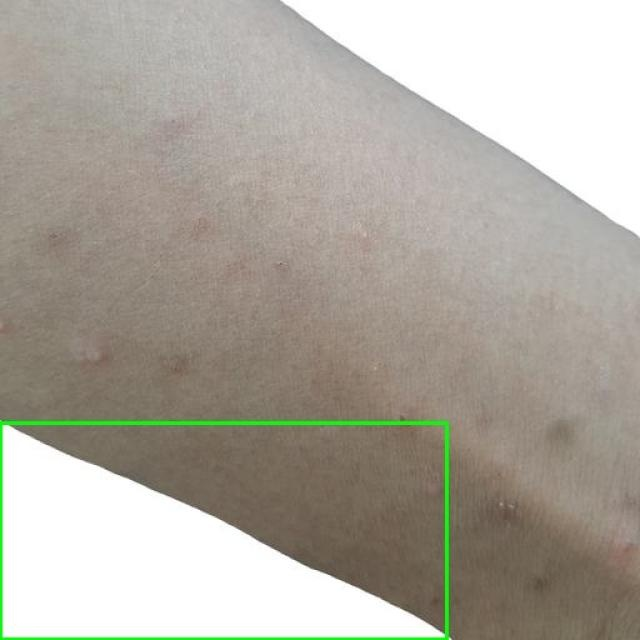Scabies: (0, 422, 446, 639)
